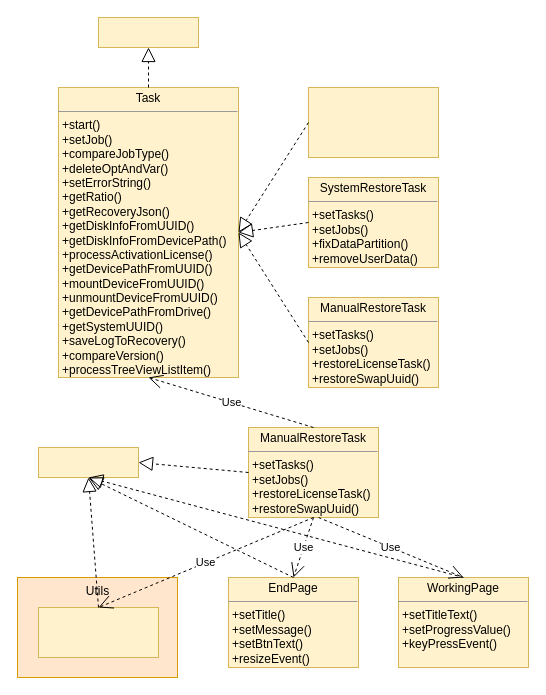
Image size: 546x695. Some labels were removed from this diagram. Each missing label, with the centre of its shape:
"BackupTask +setTasks() +backupOptAndVar()" belongs at (373,122).
"QObject" belongs at (148,32).
"QWidget" belongs at (88,462).
"RestorePage" belongs at (98,632).
